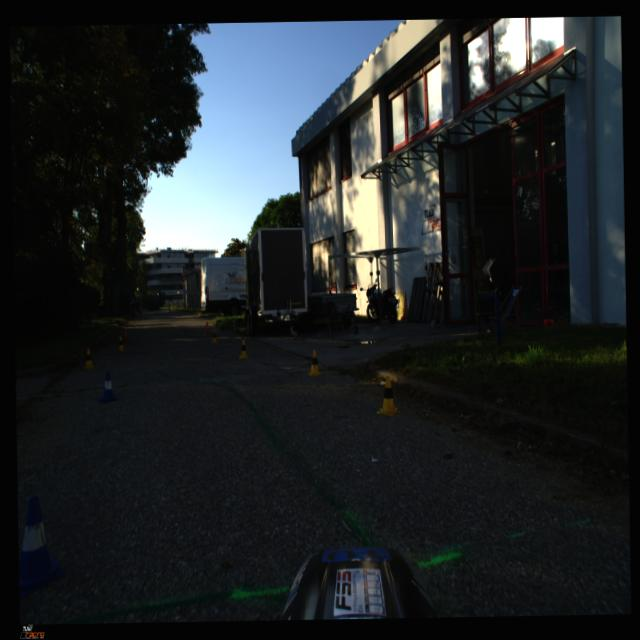blue_cone: (18, 496, 66, 596), (99, 370, 117, 401)
orange_cone: (203, 321, 210, 334), (122, 328, 128, 340)
yellow_cone: (376, 376, 400, 416), (306, 349, 322, 375), (84, 348, 95, 369), (238, 338, 248, 359), (117, 336, 125, 351), (211, 328, 218, 344)
